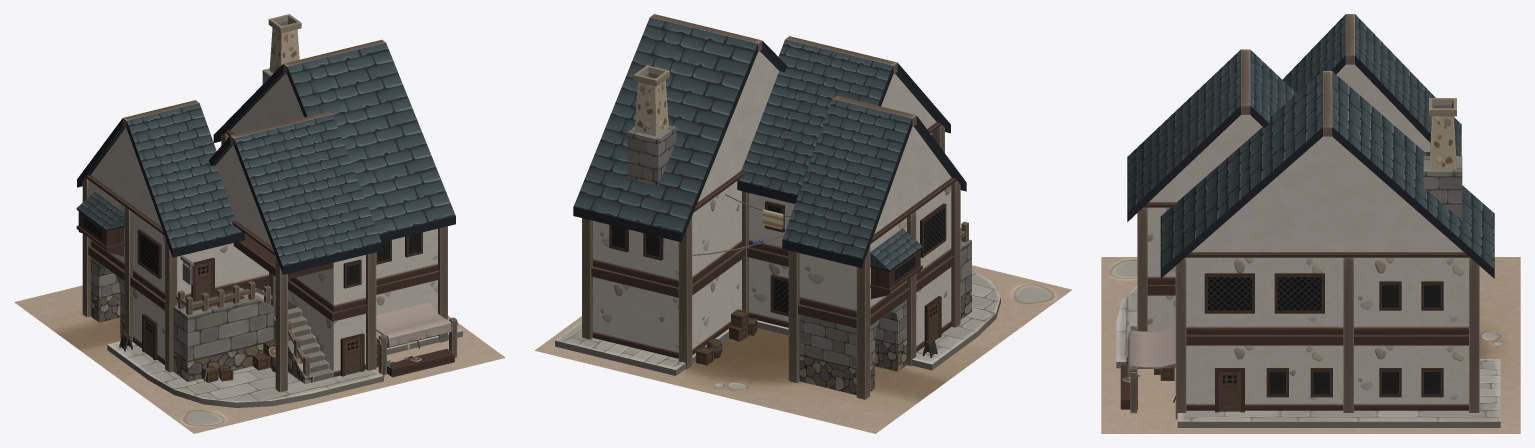
3 views of the same model, side by side, from view 1: azimuth 30°, elevation 25°; view 2: azimuth 150°, elevation 25°; view 3: azimuth 270°, elevation 25° (orthographic). The views are drawn at different scales.
Parts seen in each view (by area): view 1: Roof_top_003, Roof_top_002, Roof_top_001, Street_001, Street_002, Stairs_w_001, House_t_001, Roof_bottom_001, House_b_002, House_t_003, Cloth_003, Balcony_w_001 (+26 smaller); view 2: Roof_top_003, Street_001, Roof_top_001, Roof_top_002, House_b_003, House_t_004, Arch_001_Material_01_0, House_t_001, Chimney_001, Roof_bottom_003, House_b_001, Roof_bottom_001 (+18 smaller); view 3: Roof_top_003, Roof_bottom_003, House_t_004, House_b_003, Street_001, Roof_top_002, Street_003, Roof_top_001, Chimney_001, House_m_004, Roof_bottom_002, Roof_bottom_001 (+16 smaller).
Boxes of the visible parts, <box> form: Roof_top_003: <box>213,39,455,242</box>; Roof_top_002: <box>209,111,381,274</box>; Roof_top_001: <box>77,100,245,257</box>; Street_001: <box>14,285,505,433</box>; Street_002: <box>107,341,383,407</box>; Stairs_w_001: <box>173,297,273,381</box>; House_t_001: <box>91,182,233,302</box>; Roof_bottom_001: <box>91,128,161,226</box>; House_b_002: <box>288,289,365,376</box>; House_t_003: <box>289,255,365,311</box>; Cloth_003: <box>376,302,451,346</box>; Balcony_w_001: <box>76,191,124,256</box>; Roof_top_003: <box>573,14,787,242</box>; Street_001: <box>534,265,1072,433</box>; Roof_top_001: <box>782,96,966,267</box>; Roof_top_002: <box>737,36,950,203</box>; House_b_003: <box>593,259,741,358</box>; House_t_004: <box>593,181,741,287</box>; Arch_001_Material_01_0: <box>799,300,906,395</box>; House_t_001: <box>799,185,951,317</box>; Chimney_001: <box>627,65,676,185</box>; Roof_bottom_003: <box>697,51,778,202</box>; House_b_001: <box>749,257,951,351</box>; Roof_bottom_001: <box>874,126,951,234</box>; Roof_top_003: <box>1160,71,1494,278</box>; Roof_bottom_003: <box>1191,136,1463,252</box>; House_t_004: <box>1186,257,1468,334</box>; House_b_003: <box>1186,345,1468,410</box>; Street_001: <box>1101,257,1520,433</box>; Roof_top_002: <box>1127,49,1296,221</box>; Street_003: <box>1177,359,1500,427</box>; Roof_top_001: <box>1282,14,1461,155</box>; Chimney_001: <box>1423,98,1462,220</box>; House_m_004: <box>1186,334,1468,345</box>; Roof_bottom_002: <box>1149,115,1262,202</box>; Roof_bottom_001: <box>1336,64,1430,151</box>.
Size of the model in its own units: 236 by 182 by 236.
2 materials, 2 textured.
